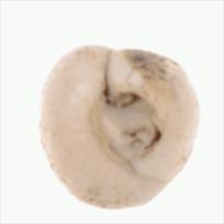L3: (92, 87, 160, 174)
L4: (40, 45, 201, 210)
